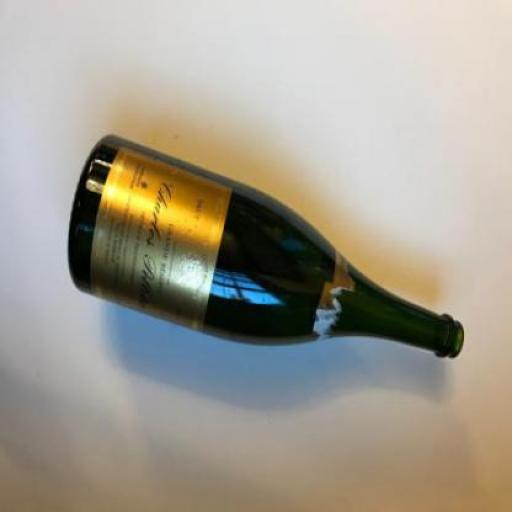glass: (72, 138, 466, 360)
